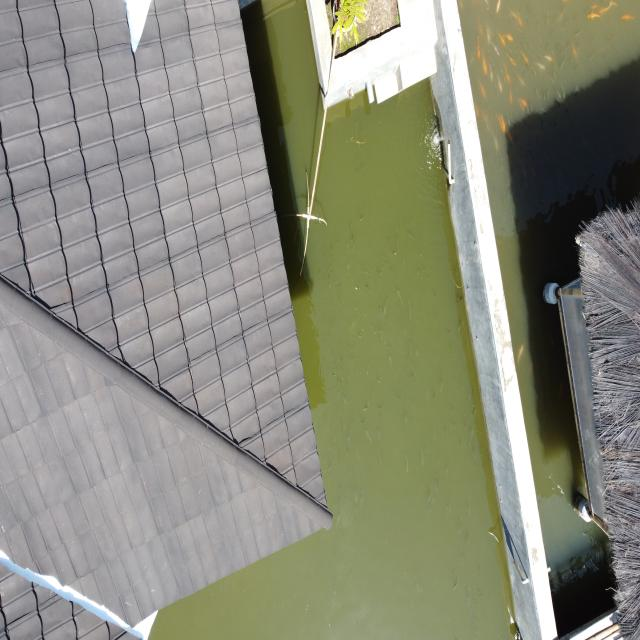Ponds: (122, 1, 544, 640)
